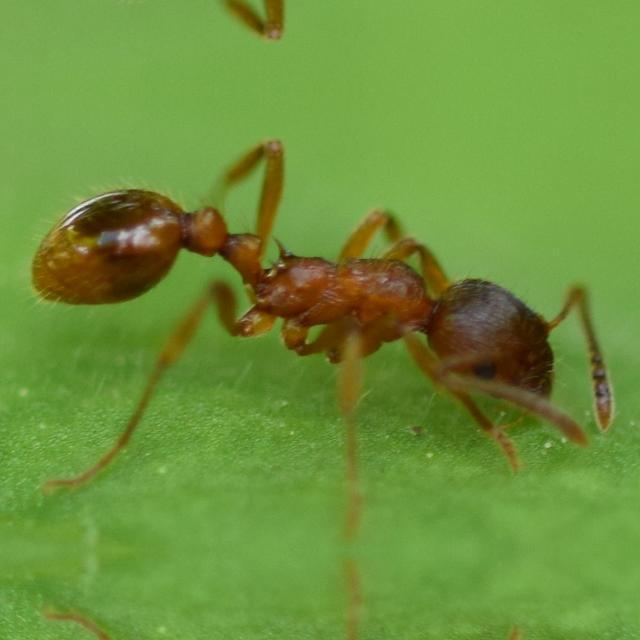Myrmica: (63, 146, 631, 496)
